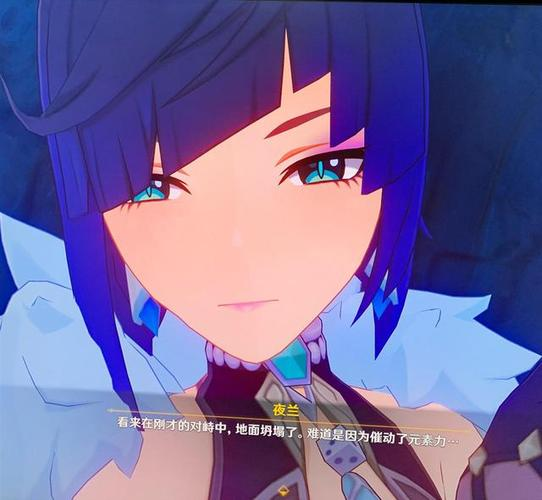夜兰: (1, 13, 495, 500)
